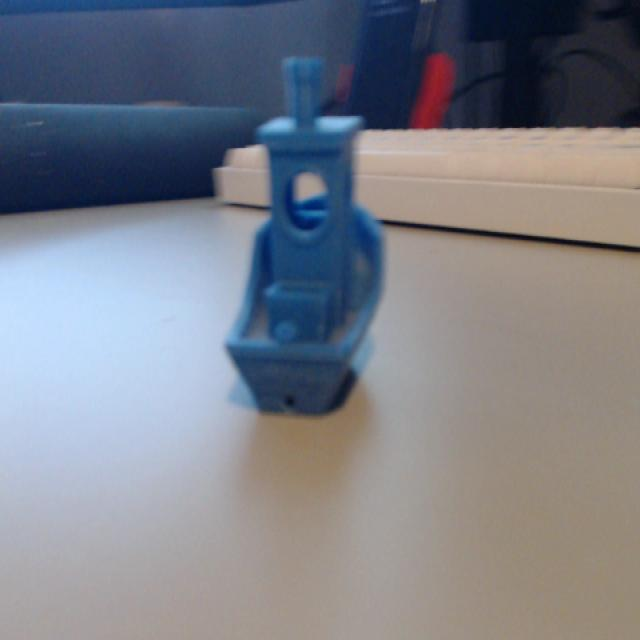benchy: (220, 52, 388, 419)
